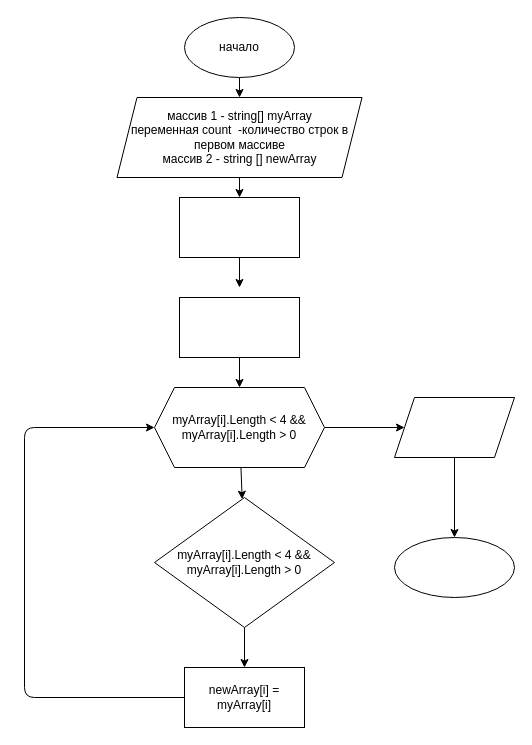
This 532x745 diagram has some shape labels left out. Each missing label, with the centre of its shape:
"вводим массив" belongs at point 239,327.
"колисчество строк" belongs at point 239,227.
"новый массив newArray[i]" belongs at point 454,427.
